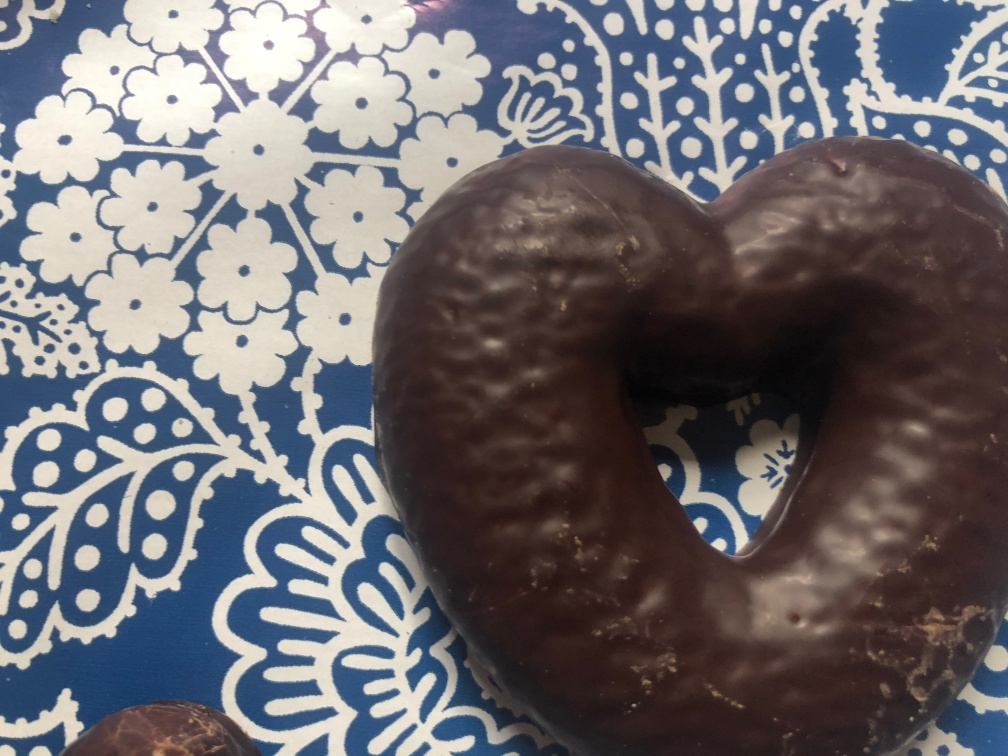heart: (371, 128, 1008, 755)
